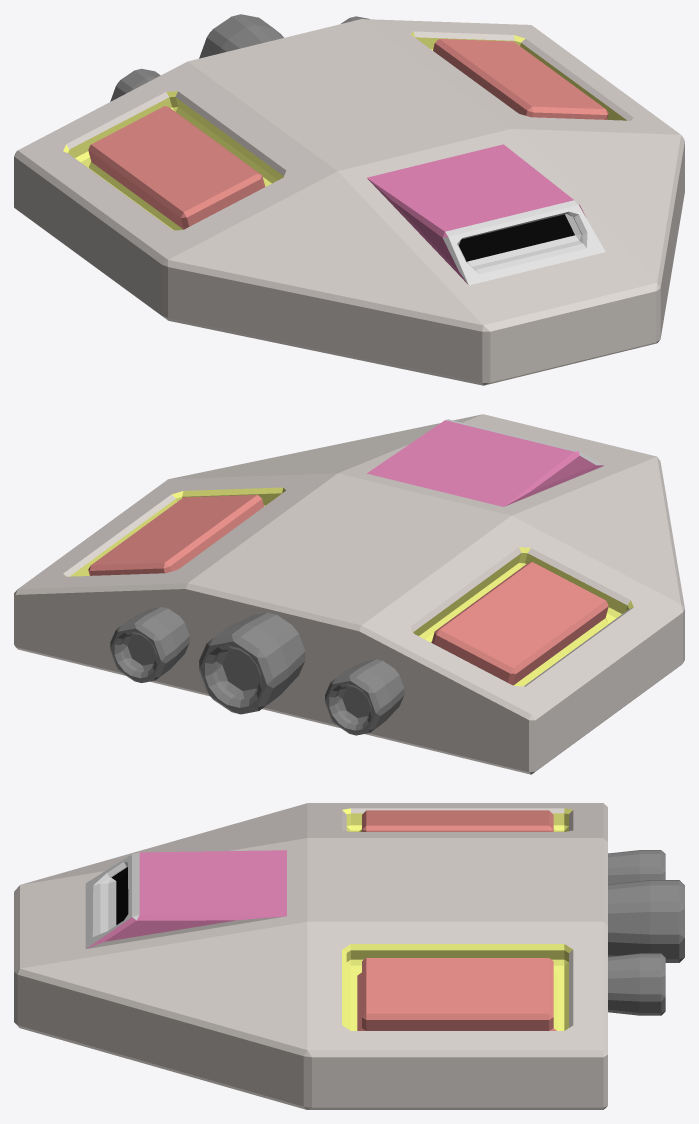
Rendered from spaceship7.fbx.
3 renders of one model, top to bottom at view 1: azimuth 30°, elevation 25°; view 2: azimuth 150°, elevation 25°; view 3: azimuth 270°, elevation 25°, orthographic.
Parts seen in each view (by area): view 1: Plane, Circle, Circle.001; view 2: Plane, Circle.001, Circle; view 3: Plane, Circle, Circle.001.
Part boxes in pixels (x1=…): Plane: x1=14, y1=19, x2=684, y2=385; Circle: x1=199, y1=14, x2=283, y2=58; Circle.001: x1=110, y1=16, x2=369, y2=101; Plane: x1=14, y1=414, x2=684, y2=774; Circle.001: x1=110, y1=607, x2=404, y2=735; Circle: x1=199, y1=612, x2=305, y2=714; Plane: x1=14, y1=803, x2=607, y2=1109; Circle: x1=608, y1=880, x2=684, y2=962; Circle.001: x1=608, y1=850, x2=665, y2=1015.
Bounding box in the file's own units: 200 × 39.53 × 226.
